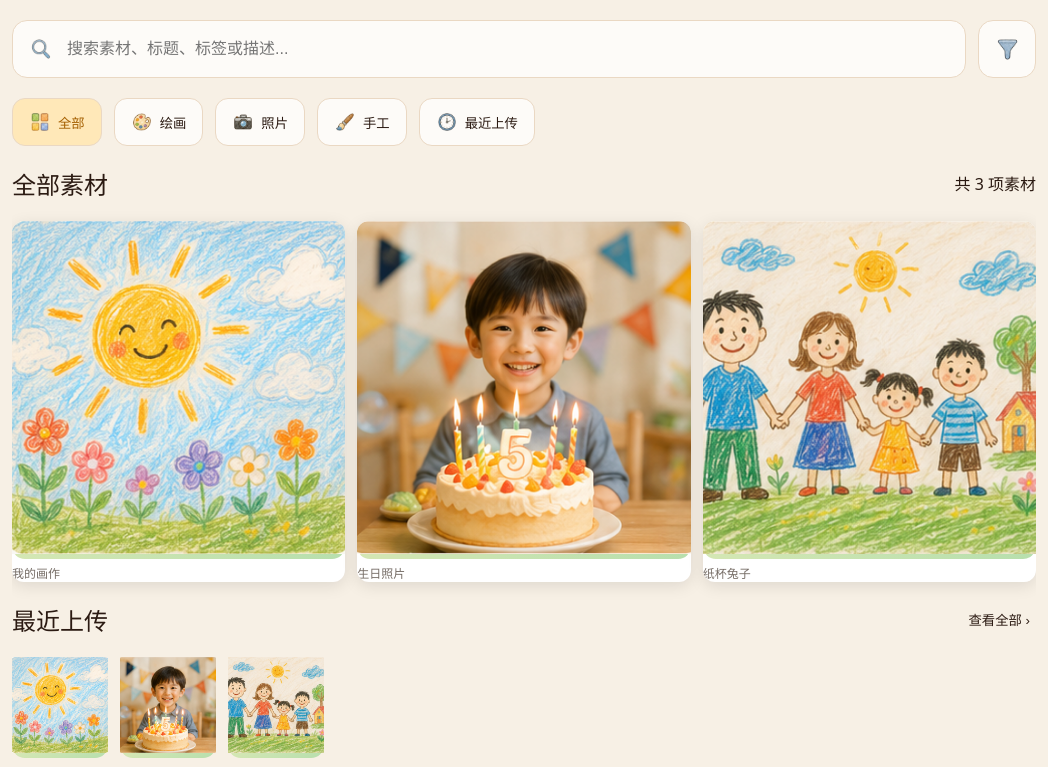
Test: AssetBrowser › shows empty state when no assets found
Check: the text "我的画作" is shown, box [12,565,60,582]
Type "不存在的内容" into the field with placeholder "搜索素材、标题、标签或描述..." at [507, 49], box [65,39,949,59]
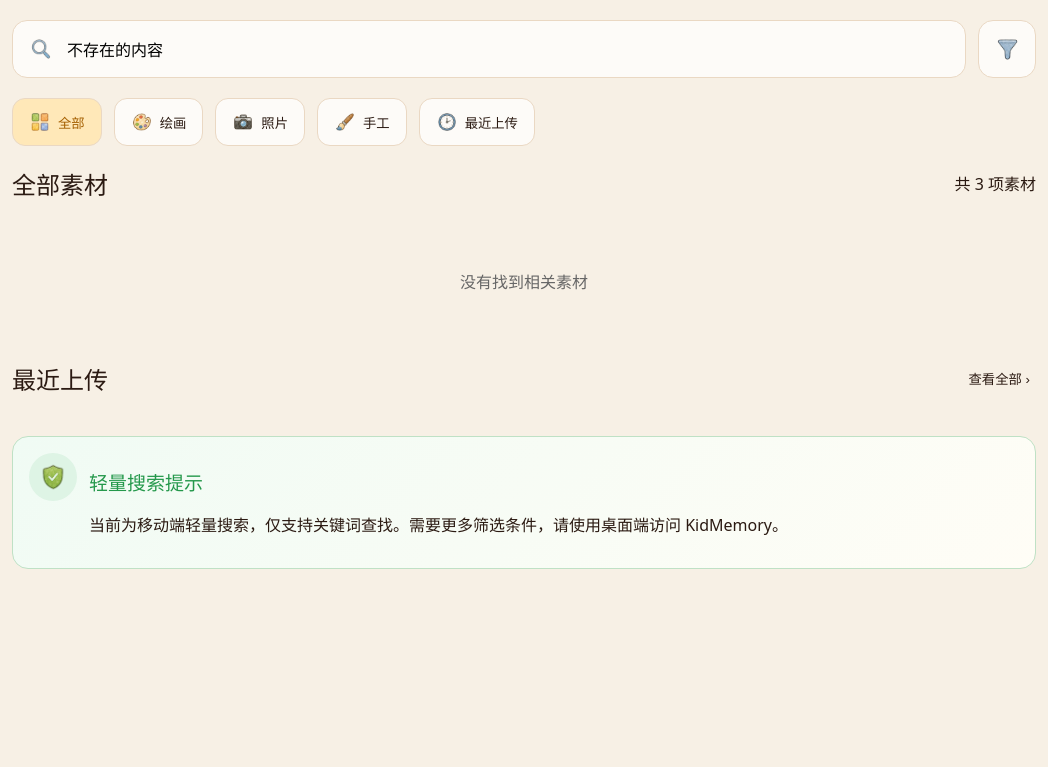
Check: the text "没有找到相关素材" is shown, box [460,271,588,293]
